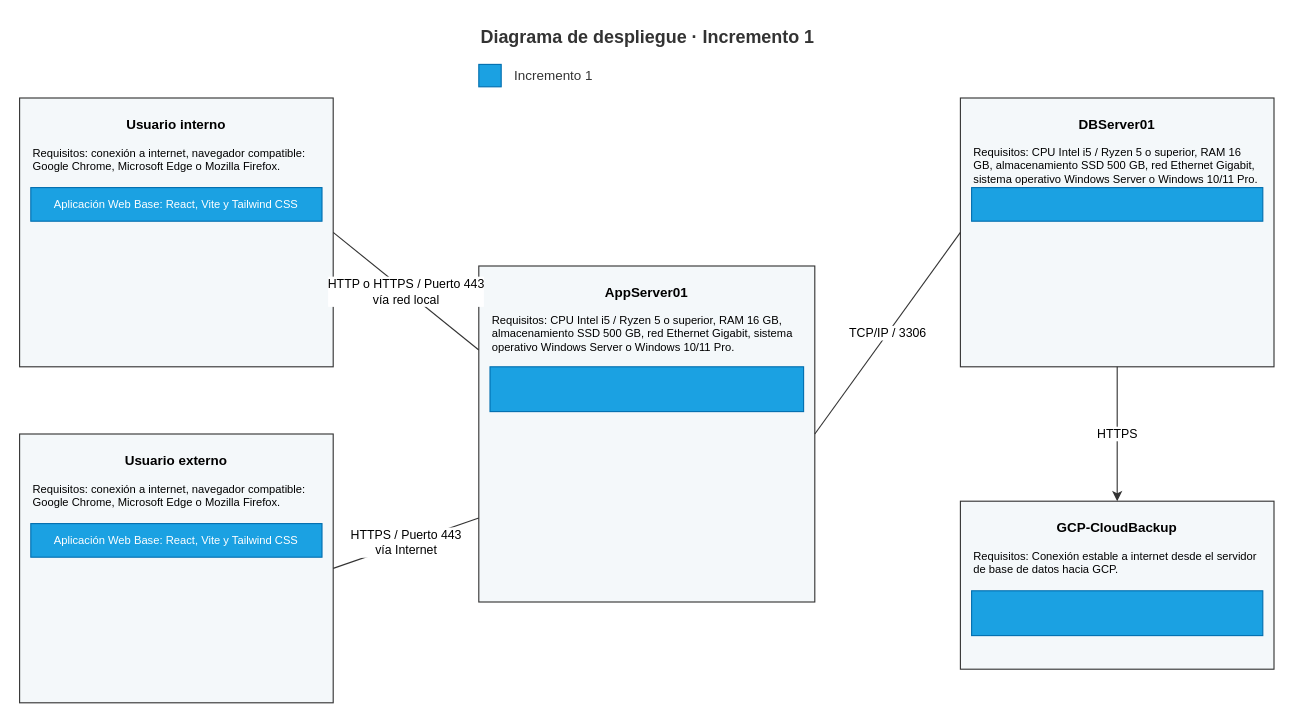
This 1294x722 diagram has some shape labels left out. Each missing label, with the centre of its shape:
"Google Cloud Storage: almacenamiento de respaldos" belongs at point 1116,613.
"Motor MySQL / Tablas Base de Usuarios y Cursos" belongs at point 1116,203.
"Node.js runtime / Backend API REST Base" belongs at point 646,389.
